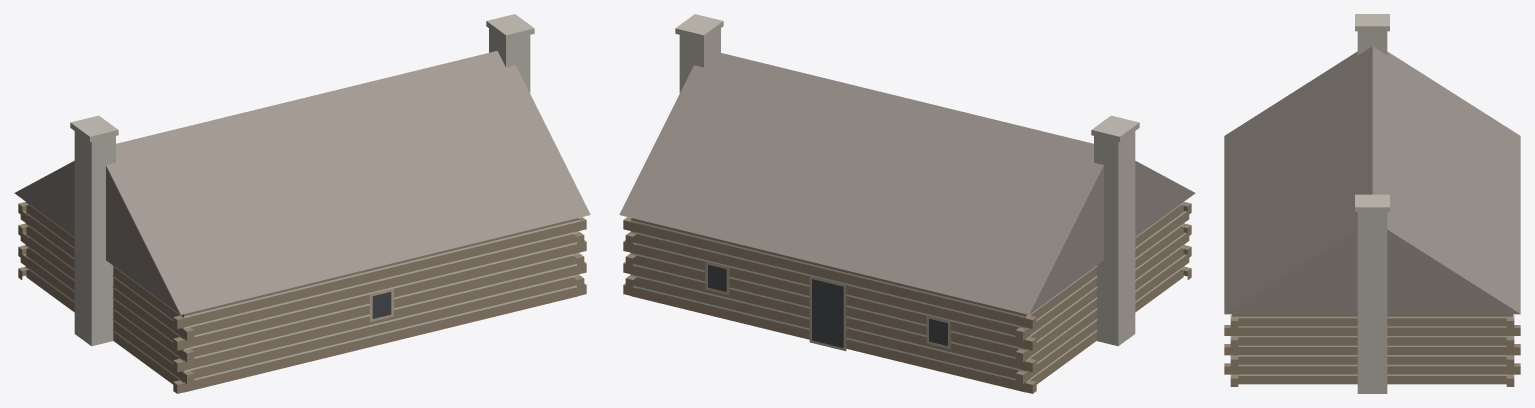
Rendered from cobweb_castle__log_1820.glb.
3 views of the same model, side by side, from view 1: azimuth 30°, elevation 25°; view 2: azimuth 150°, elevation 25°; view 3: azimuth 270°, elevation 25° (orthographic). The views are drawn at different scales.
Visible parts, largest first — view 1: cobweb_castle__log_1820; view 2: cobweb_castle__log_1820; view 3: cobweb_castle__log_1820.
Part boxes in pixels (<box>): cobweb_castle__log_1820: <box>14,14,590,393</box>; cobweb_castle__log_1820: <box>619,14,1195,393</box>; cobweb_castle__log_1820: <box>1224,14,1520,393</box>.
Bounding box in the file's own units: 14.64 × 6.71 × 9.5.
